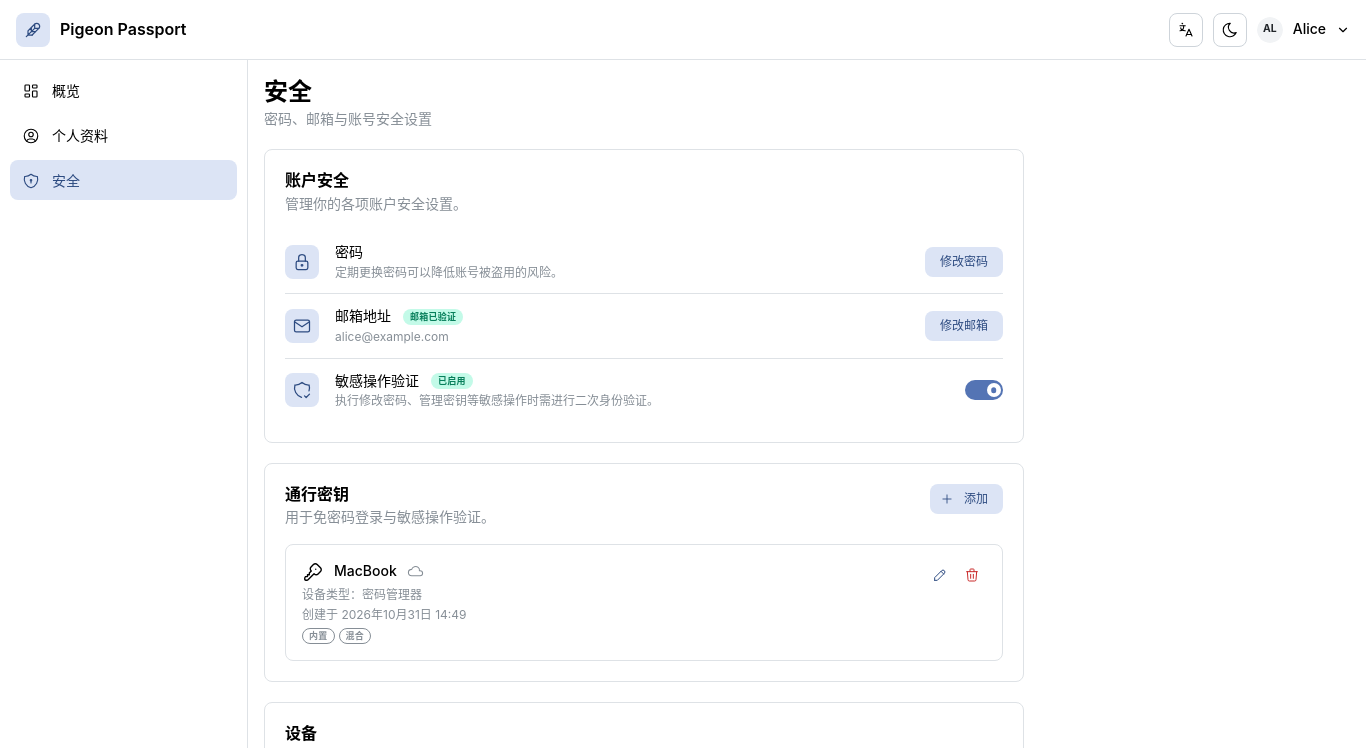
Scenario: SecurityPage passkey maintenance › preserves credential metadata when renaming returns a partial object
This screenshot has width=1366, height=748.
Click the button named "重命名" at (940, 574), box [926,560,954,588]
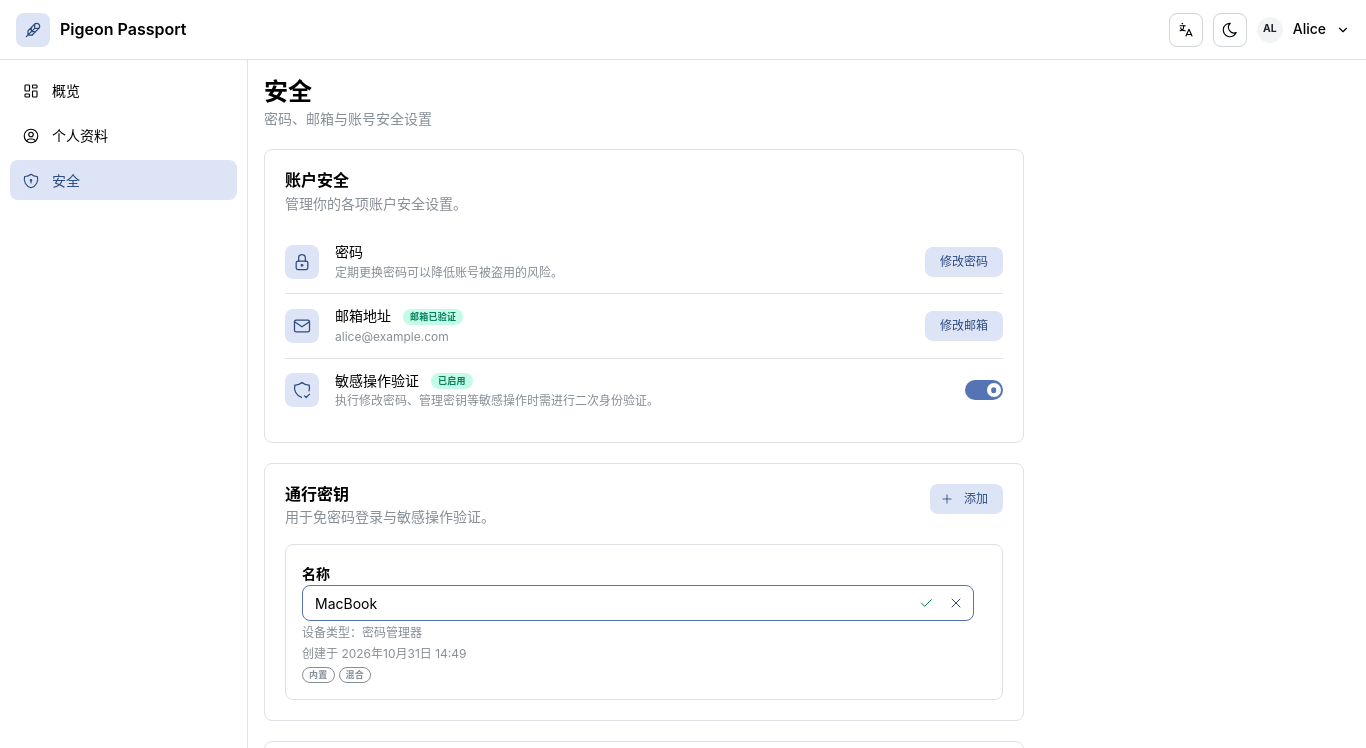
Replace the text in the field labelled "名称" with "ThinkPad" at (638, 603), box [302,585,974,621]
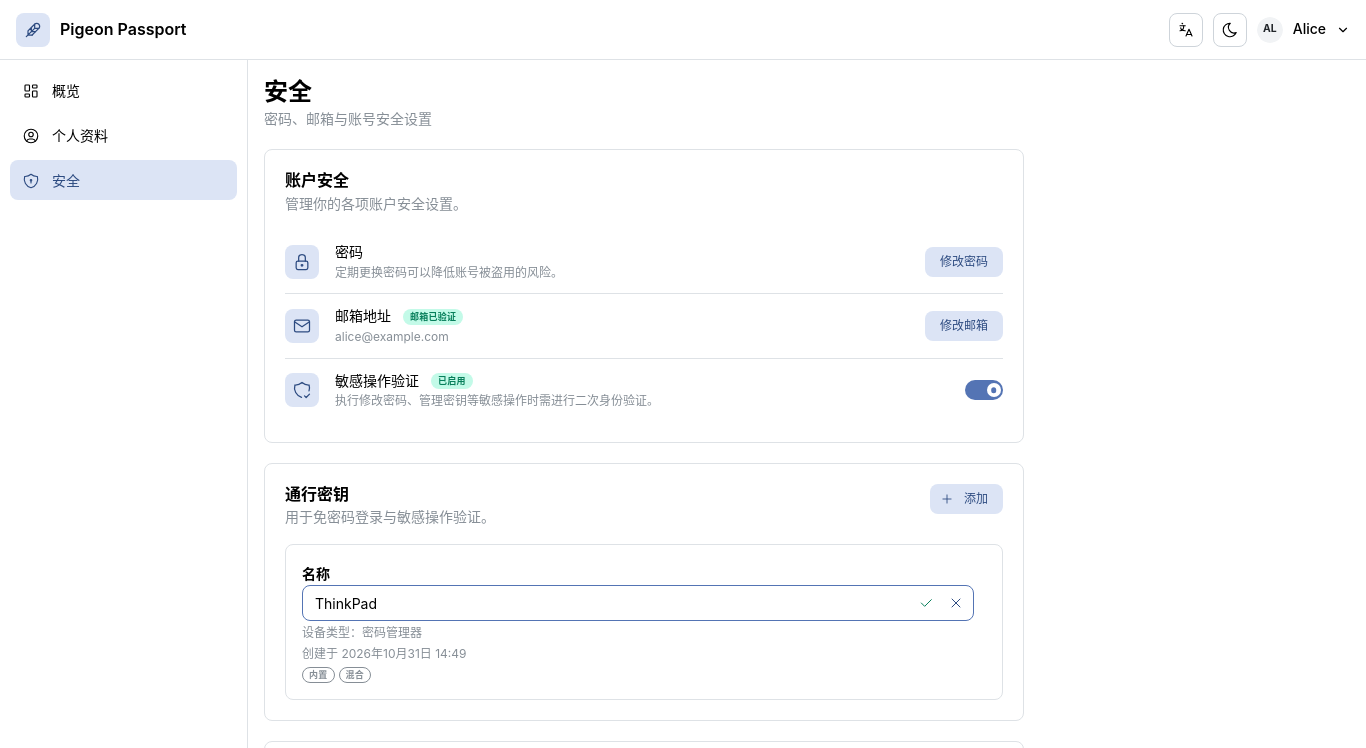
Click the button named "保存名称" at (926, 603), box [912,589,940,617]
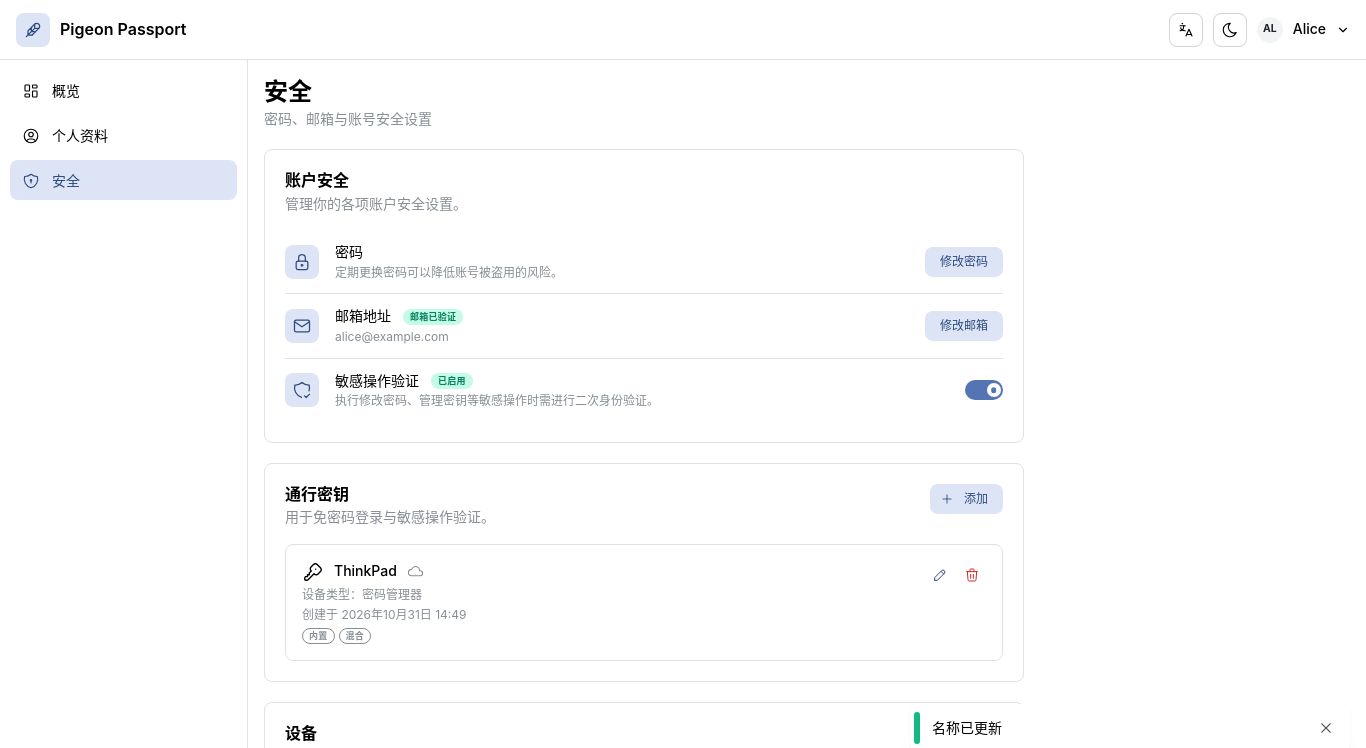
Expected: the heading "安全" is shown, [264,77,312,106]
Result: the text "ThinkPad" is shown at [334,561,397,582]
